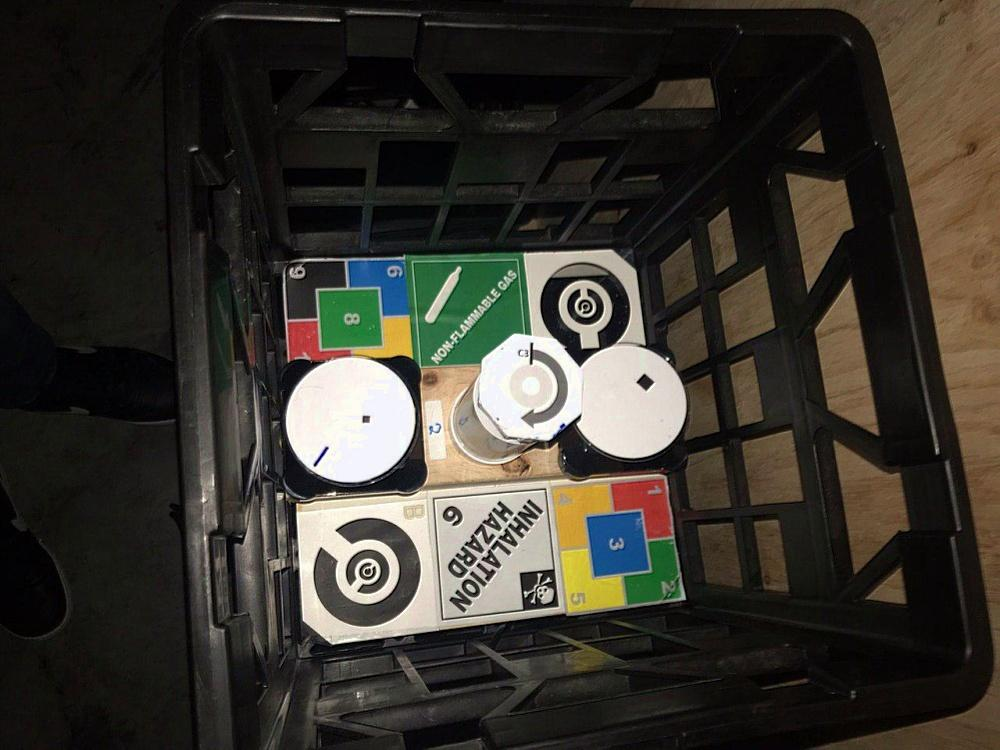non-flammable-gas: (413, 255, 526, 368)
poison: (431, 484, 560, 622)
